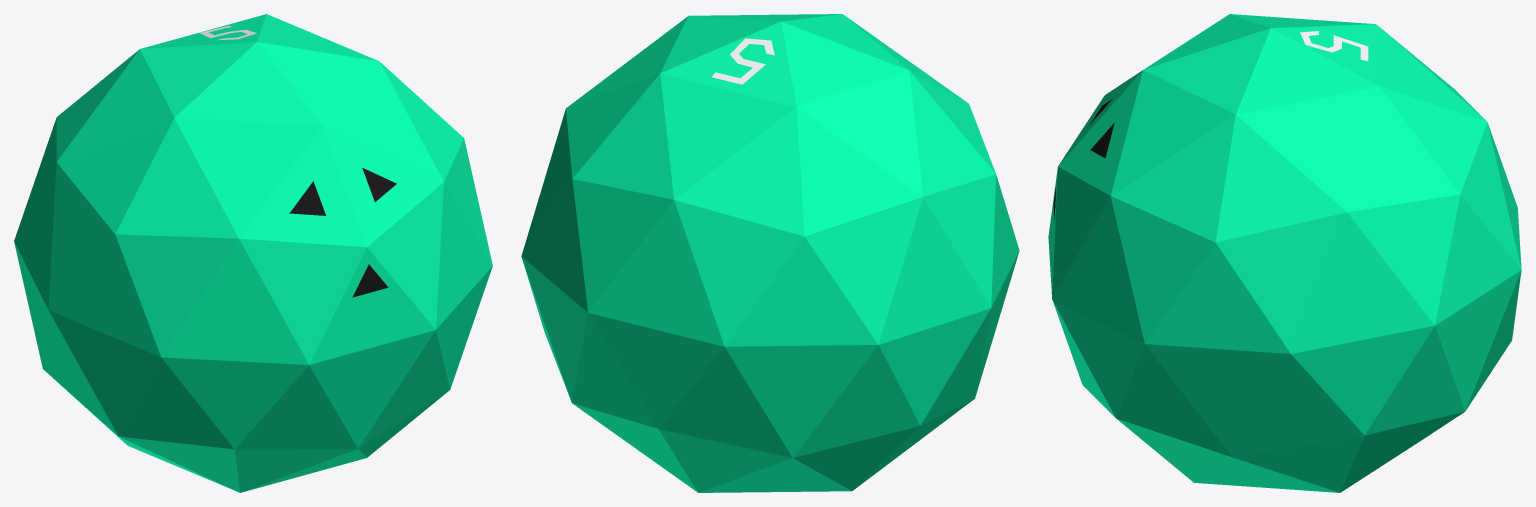
The model's file is Bowling_Ball_5.fbx.
3 renders of one model, left to right at view 1: azimuth 30°, elevation 25°; view 2: azimuth 150°, elevation 25°; view 3: azimuth 270°, elevation 25°, orthographic. The views are drawn at different scales.
Visible parts, largest first — view 1: Bowling_Ball_5; view 2: Bowling_Ball_5; view 3: Bowling_Ball_5.
Part boxes in pixels (<box>): Bowling_Ball_5: <box>14,14,492,492</box>; Bowling_Ball_5: <box>521,14,1019,492</box>; Bowling_Ball_5: <box>1048,14,1521,492</box>.
Bounding box in the file's own units: 28.65 × 28.61 × 27.42.
